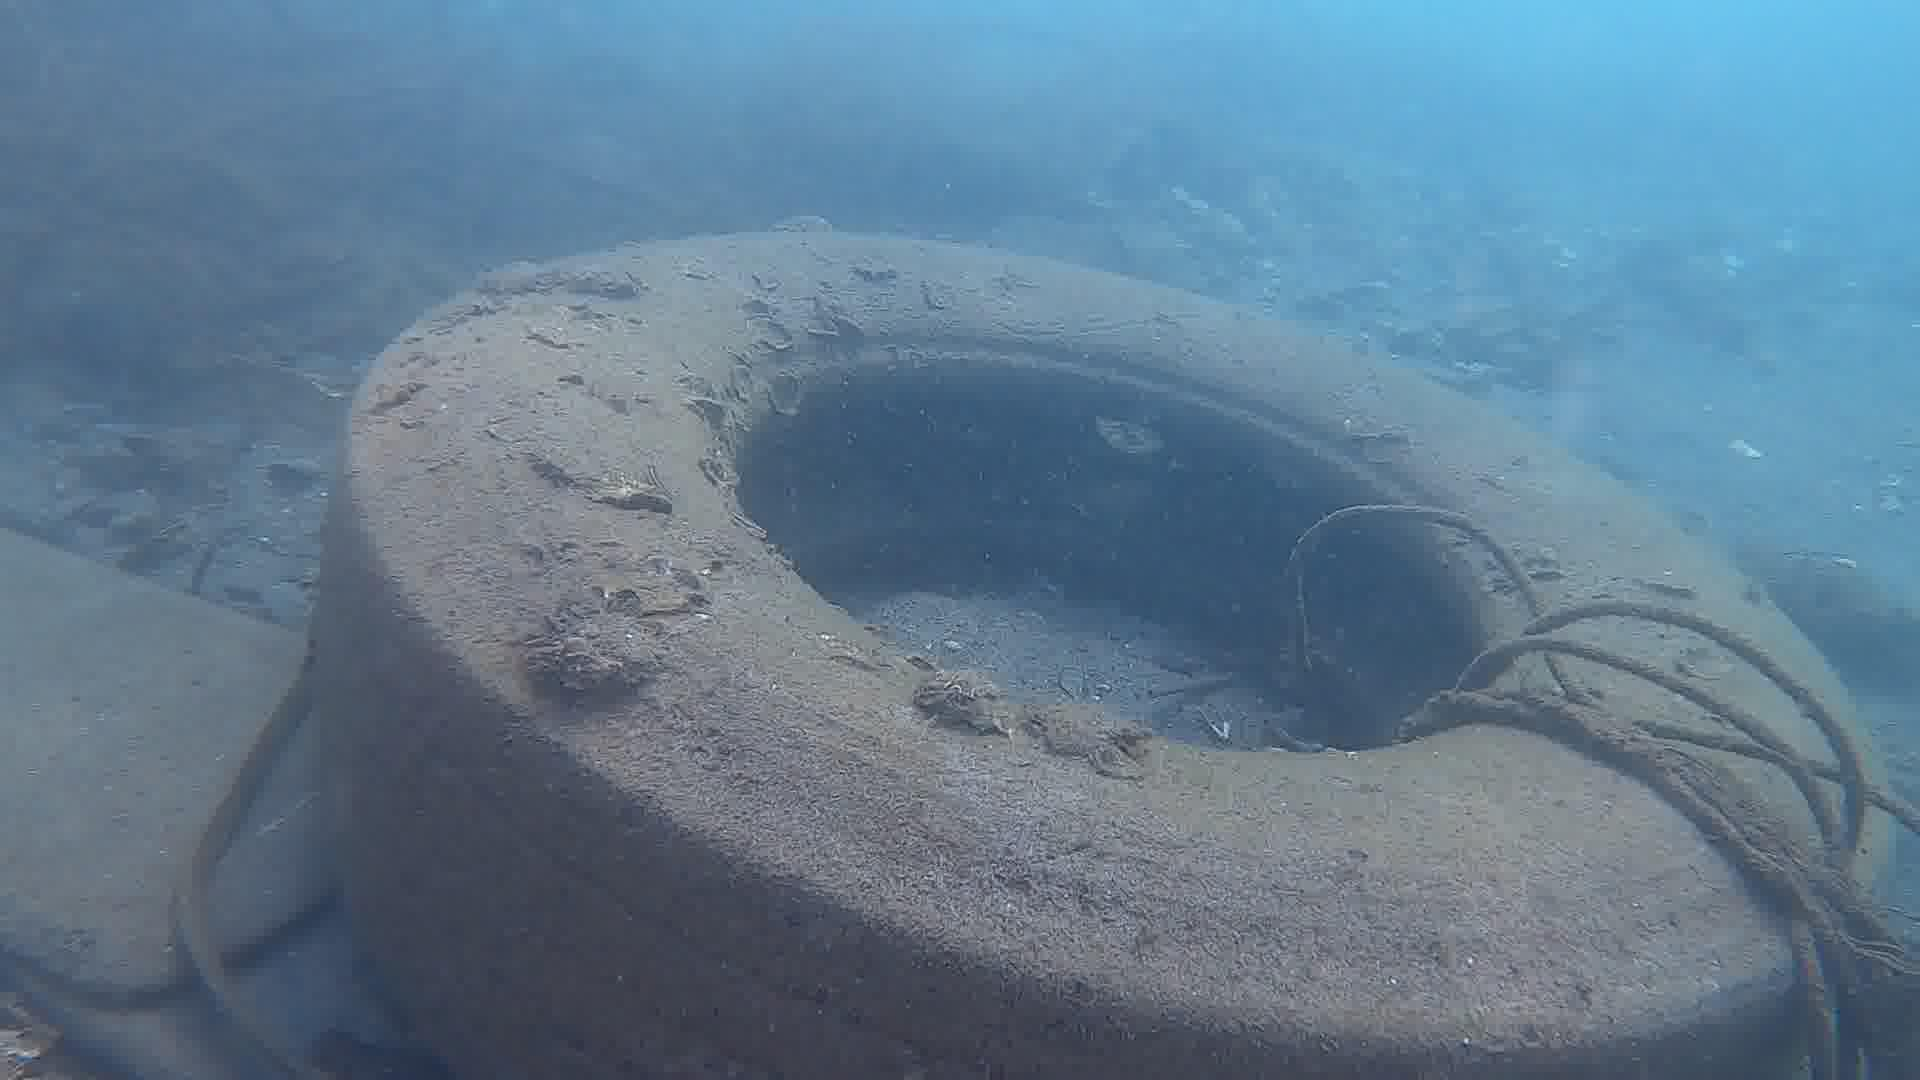bundle of ropes: (1284, 500, 1920, 1080)
tire: (324, 229, 1899, 1080)
